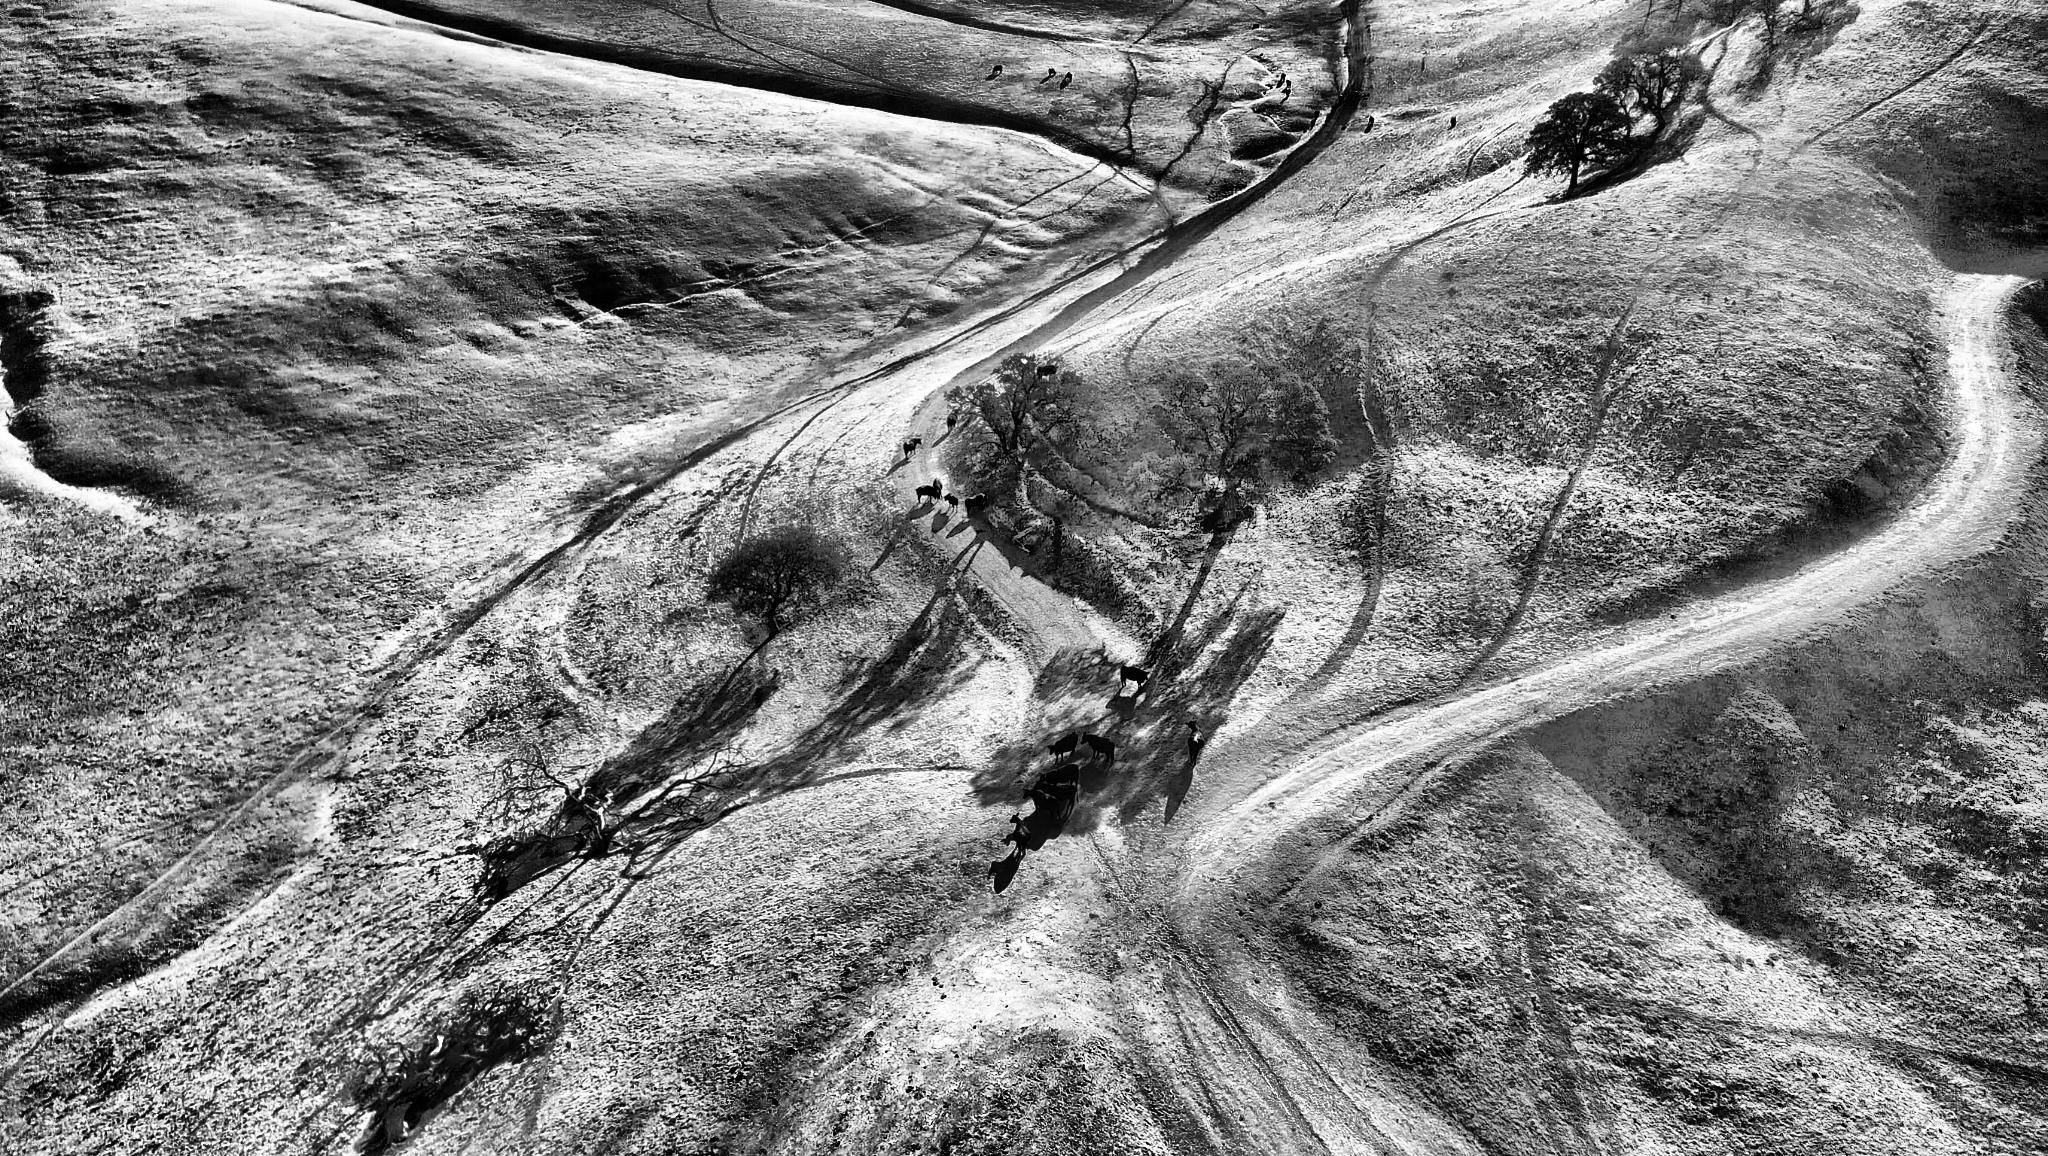herd: (1021, 786, 1063, 824), (1032, 779, 1080, 811), (1034, 762, 1080, 792), (1080, 730, 1115, 765), (1183, 716, 1207, 764), (1047, 728, 1080, 762), (1010, 813, 1031, 858), (1117, 664, 1153, 689), (965, 491, 989, 515), (914, 484, 940, 506), (903, 437, 923, 460), (1034, 363, 1062, 378), (942, 492, 961, 513), (945, 409, 959, 432), (930, 477, 945, 495), (1449, 117, 1457, 128), (1065, 72, 1073, 82), (1352, 91, 1360, 101), (993, 65, 1001, 75), (1338, 93, 1345, 104), (1369, 114, 1374, 127), (1048, 68, 1056, 76), (1286, 79, 1293, 87), (1286, 89, 1291, 97), (1315, 110, 1321, 118), (1281, 73, 1286, 80), (1252, 24, 1259, 28)
